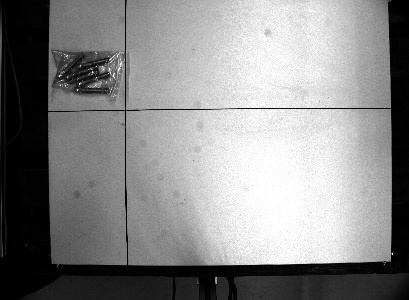t2: (47, 46, 133, 103)
